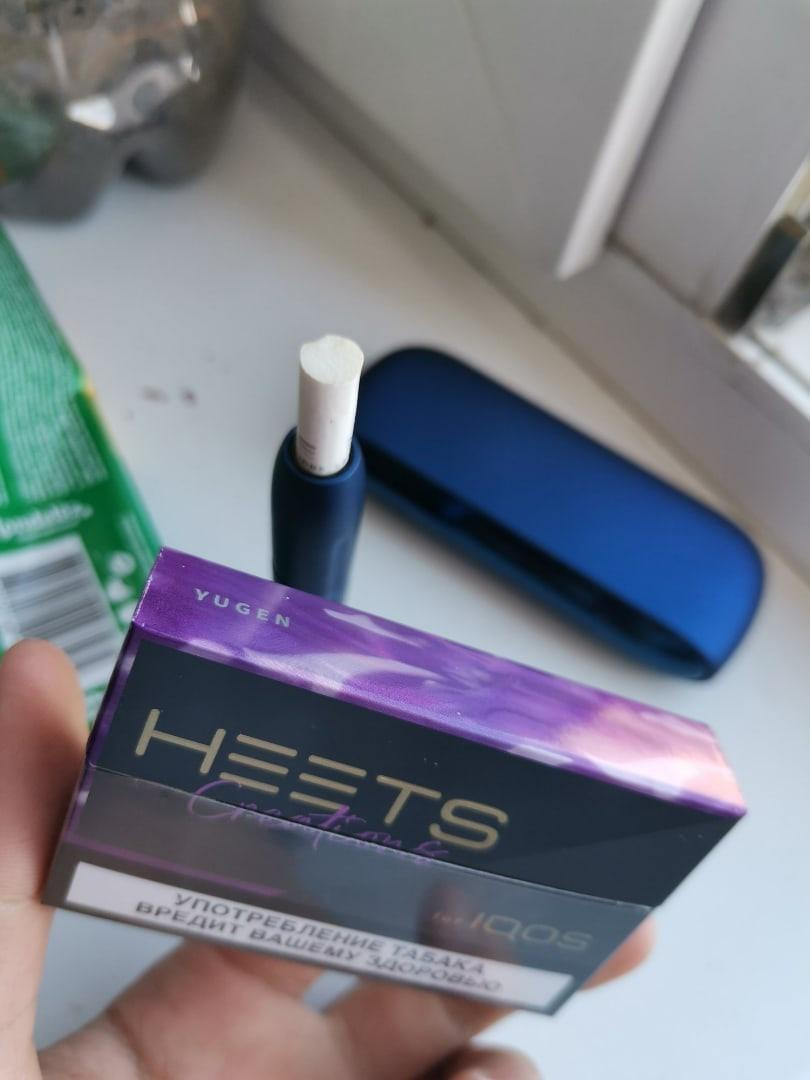iqos: (272, 335, 364, 602)
